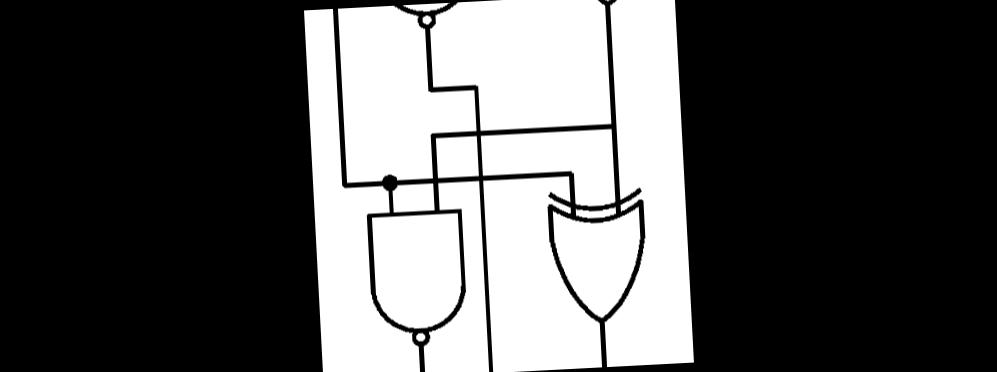nand: (360, 201, 474, 354), (372, 0, 479, 36)
xor: (538, 179, 656, 330)
